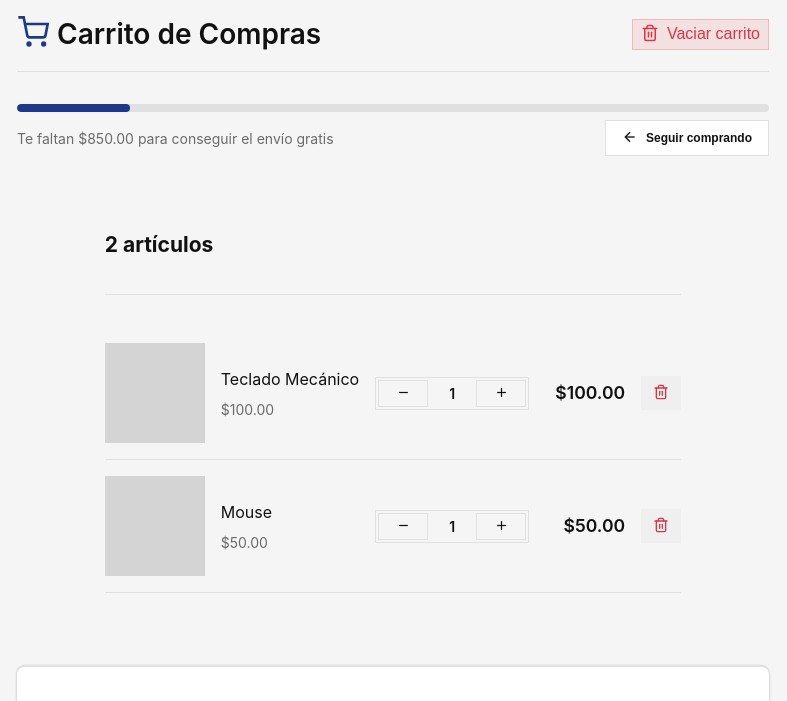
Test: Cart (página) › eliminar un producto lo quita de la lista
Click the button with test id "cart-item-remove-prod-1". click: (661, 393)
box: [641,376,681,410]
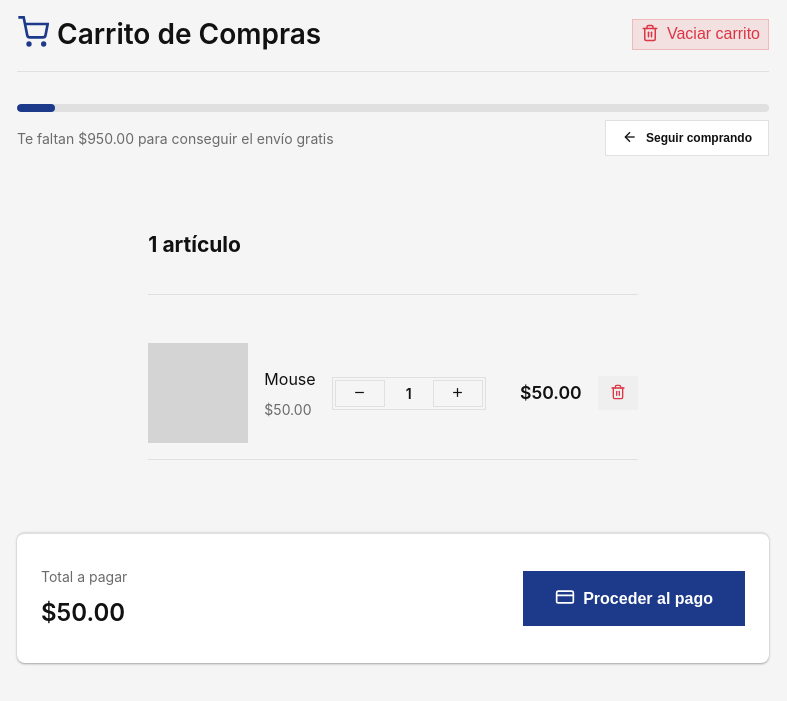
expect the element with test id "cart-item-prod-2" is shown: met, box [148,327,638,460]
expect the element with test id "cart-item-prod-1" is gone: met
